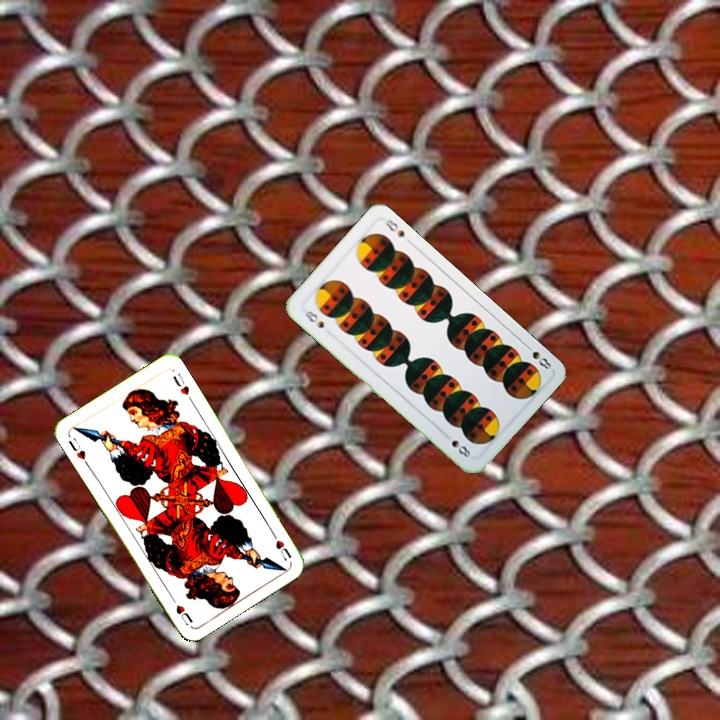HU: (267, 527, 294, 563), (64, 434, 91, 468)
S8: (520, 340, 555, 372), (298, 303, 327, 331)
